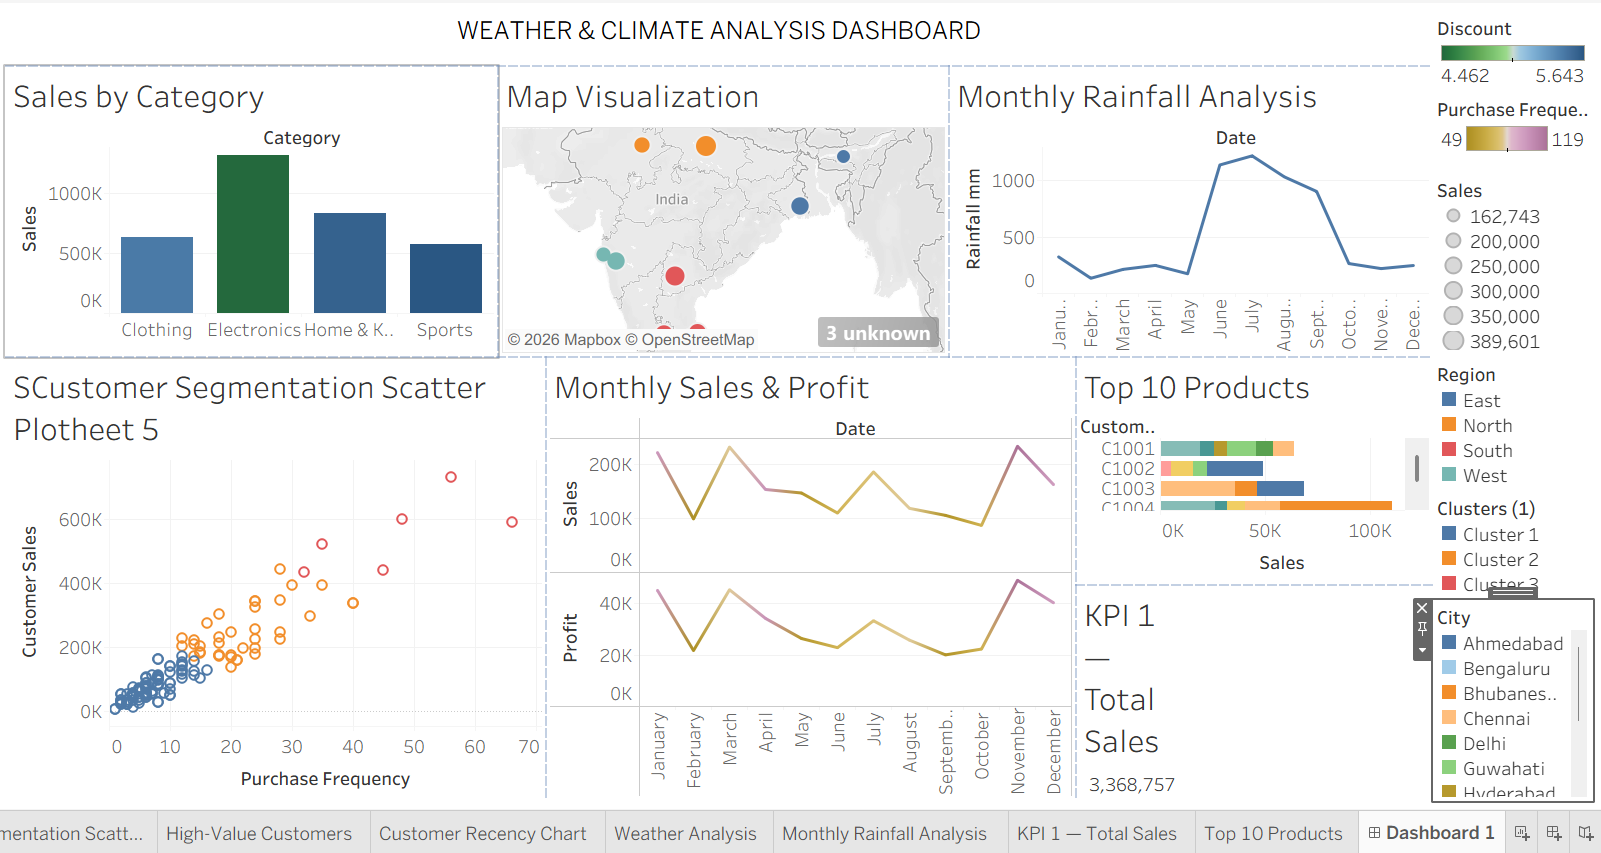

Layout of this report page (visuals, bound fields, positions):
{"tool":"tableau","page":{"name":"Dashboard 1","canvas":[1000,1000],"units":"permille","ordinal":0},"visuals":[{"type":"text","box":[5,9.9,890.3,68.2]},{"type":"legend","title":"Sales by Category","param":"[federated.07gxtnd15t5a8p168vz1v1iskuuv].[sum:Discount:qk]","box":[895.3,9.9,99.8,100.5]},{"type":"worksheet","title":"Sales by Category","mark":"Automatic","rows":["Sales"],"cols":["Category"],"box":[5,78.2,307.4,361.1]},{"type":"worksheet","title":"Map Visualization","mark":"Automatic","box":[312.3,78.2,281.2,361.1]},{"type":"worksheet","title":"Monthly Rainfall Analysis","mark":"Automatic","rows":["Rainfall_mm"],"cols":["Date"],"box":[593.5,78.2,301.7,361.1]},{"type":"legend","title":"Monthly Sales & Profit","param":"[federated.07gxtnd15t5a8p168vz1v1iskuuv].[sum:Purchase_Frequency:qk]","box":[895.3,110.4,99.8,100.5]},{"type":"legend","title":"Map Visualization","param":"[federated.07gxtnd15t5a8p168vz1v1iskuuv].[sum:Sales:qk]","box":[895.3,210.9,99.8,228.3]},{"type":"worksheet","title":"SCustomer Segmentation Scatter Plotheet 5","mark":"Automatic","rows":["Customer_Sales"],"cols":["Purchase_Frequency"],"box":[5,439.2,337.3,550.9]},{"type":"worksheet","title":"Monthly Sales & Profit","mark":"Automatic","rows":["Sales","Profit"],"cols":["Date"],"box":[342.3,439.2,330.4,550.9]},{"type":"worksheet","title":"Top 10 Products","mark":"Automatic","rows":["Customer_ID"],"cols":["Sales"],"box":[672.7,439.2,222.6,282.9]},{"type":"legend","title":"Map Visualization","param":"[federated.07gxtnd15t5a8p168vz1v1iskuuv].[none:Region:nk]","box":[895.3,439.2,99.8,166.3]},{"type":"legend","title":"SCustomer Segmentation Scatter Plotheet 5","param":"[federated.07gxtnd15t5a8p168vz1v1iskuuv].[none:AdhocCluster:2:ok]","box":[895.3,605.5,99.8,135.2]},{"type":"worksheet","title":"KPI 1 — Total Sales","mark":"Automatic","box":[672.7,722.1,222.6,268]},{"type":"legend","title":"Top 10 Products","param":"[federated.07gxtnd15t5a8p168vz1v1iskuuv].[none:City:nk]","box":[895.3,740.7,99.8,249.3]}]}

Visuals, with their boxes on the dashboard's canvas, which has no fixed pixel size, in thousandths of its width and height (x1, y1, x2, y2). These are canvas units, not pixel positions in the 1601x853 screenshot, which may show the page scaled, cropped or inside an application window:
text: rect(5, 10, 895, 78)
"Sales by Category" legend: rect(895, 10, 995, 110)
"Sales by Category" worksheet: rect(5, 78, 312, 439)
"Map Visualization" worksheet: rect(312, 78, 594, 439)
"Monthly Rainfall Analysis" worksheet: rect(594, 78, 895, 439)
"Monthly Sales & Profit" legend: rect(895, 110, 995, 211)
"Map Visualization" legend: rect(895, 211, 995, 439)
"SCustomer Segmentation Scatter Plotheet 5" worksheet: rect(5, 439, 342, 990)
"Monthly Sales & Profit" worksheet: rect(342, 439, 673, 990)
"Top 10 Products" worksheet: rect(673, 439, 895, 722)
"Map Visualization" legend: rect(895, 439, 995, 606)
"SCustomer Segmentation Scatter Plotheet 5" legend: rect(895, 606, 995, 741)
"KPI 1 — Total Sales" worksheet: rect(673, 722, 895, 990)
"Top 10 Products" legend: rect(895, 741, 995, 990)
